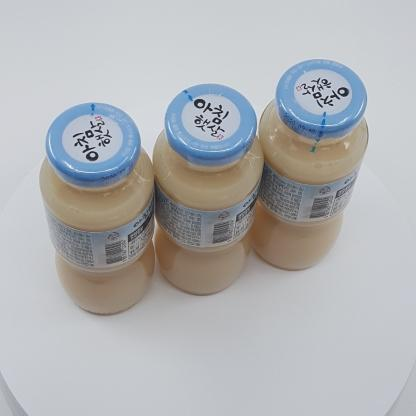------180ML: (248, 59, 369, 270), (39, 102, 155, 315), (152, 84, 264, 295)
